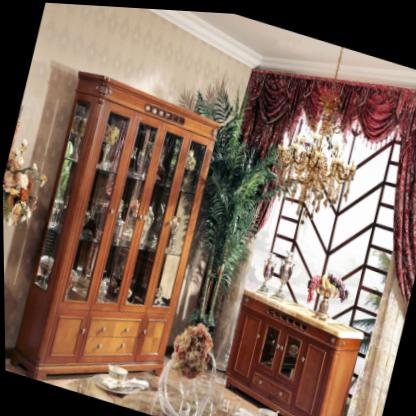Cupboard: (9, 71, 221, 381), (223, 288, 364, 416)
Curtains: (201, 63, 416, 344)
